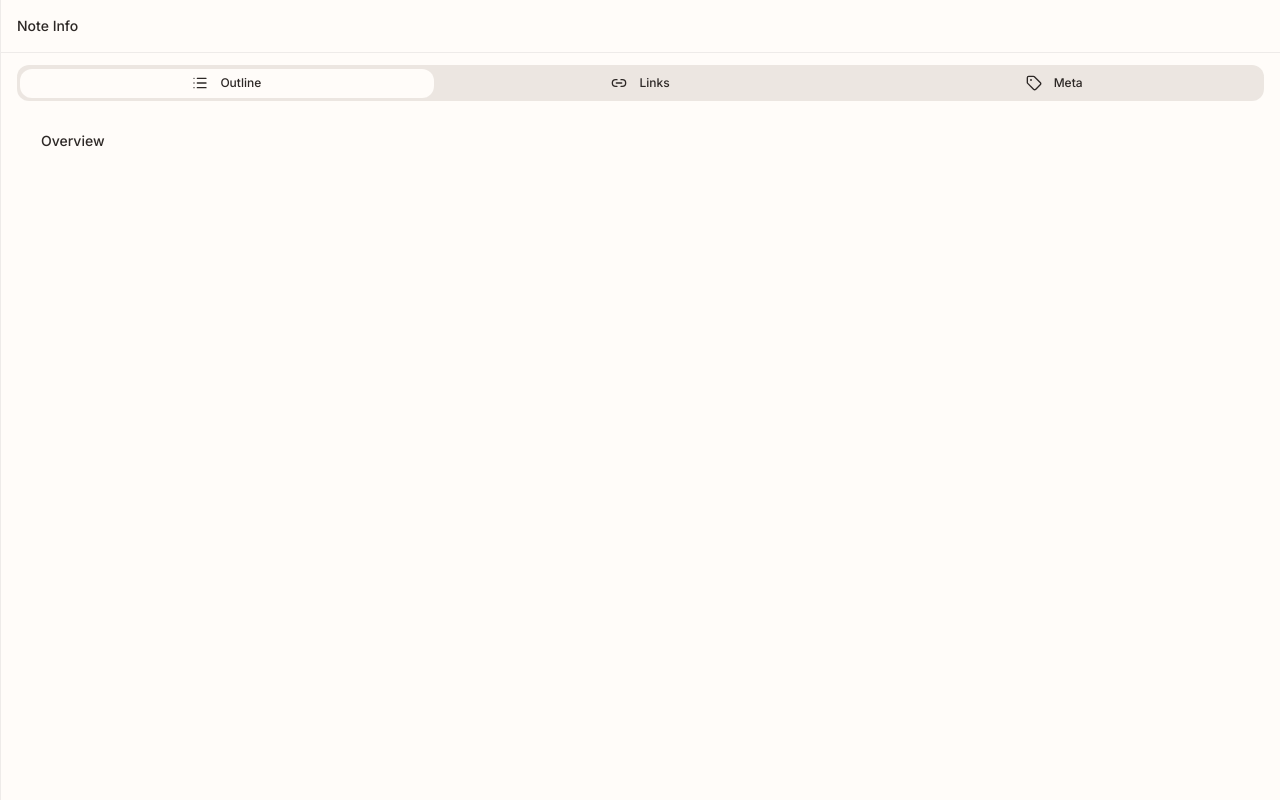
RightPanel source metadata › shows imported source path and vault in the metadata tab
This screenshot has width=1280, height=800.
Expected: the text "Source path" is not shown
Press the mouse on the tab "Meta" at (1054, 83), box [847,68,1261,98]
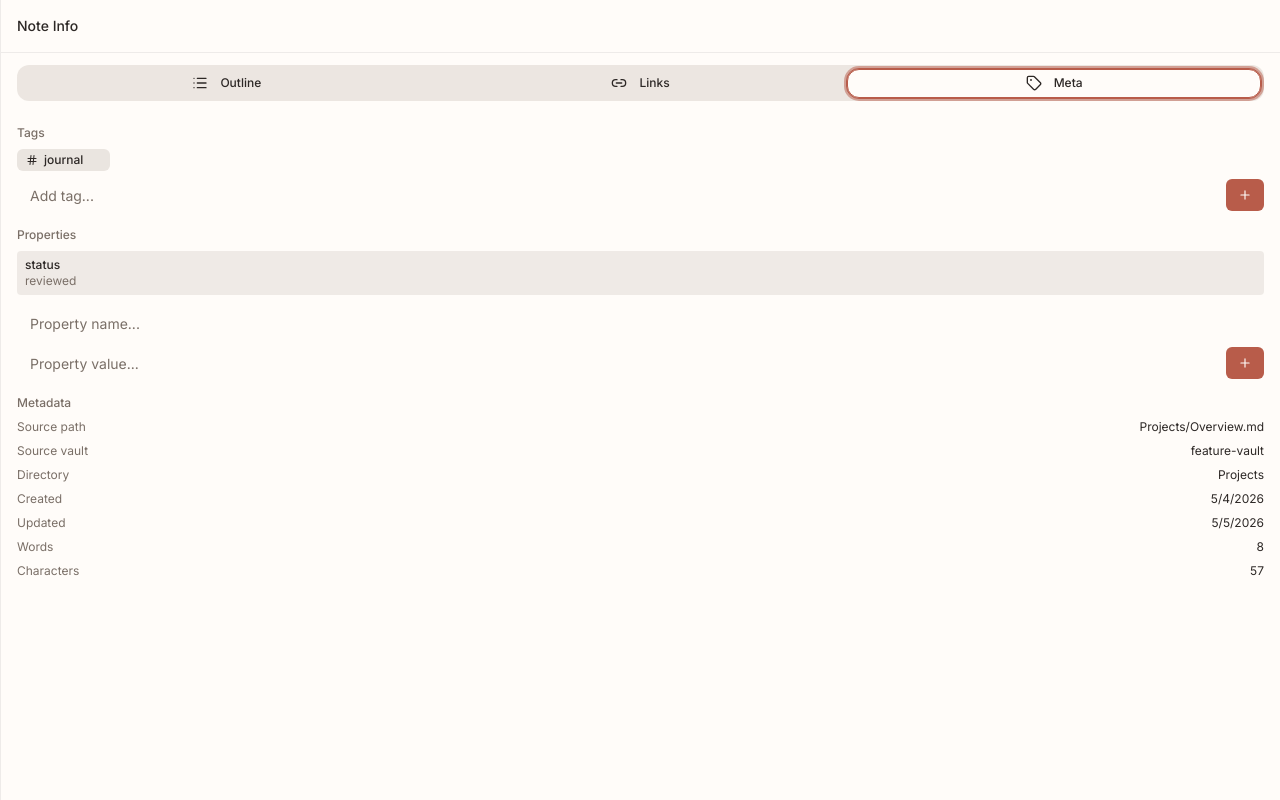
Result: the text "Metadata" is shown at [17,395,71,410]
Result: the text "Source path" is shown at [17,419,86,435]
Result: the text "Projects/Overview.md" is shown at [1140,419,1264,435]
